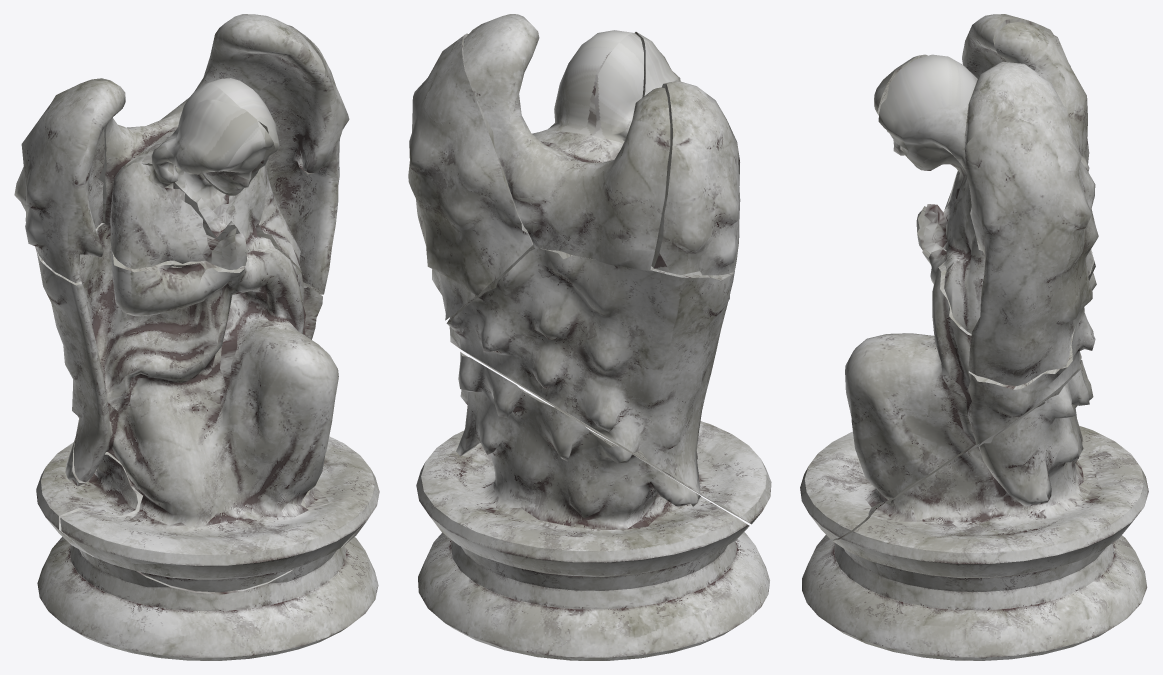
Rendered from SM_Statue2.fbx.
3 renders of one model, left to right at view 1: azimuth 30°, elevation 25°; view 2: azimuth 150°, elevation 25°; view 3: azimuth 270°, elevation 25°, orthographic. The views are drawn at different scales.
Parts seen in each view (by area): view 1: Statue_LP_cell.002, Statue_LP_cell.003, Statue_LP_cell.001, Statue_LP_cell.005, Statue_LP_cell.004, Statue_LP_cell; view 2: Statue_LP_cell.003, Statue_LP_cell.002, Statue_LP_cell.001, Statue_LP_cell.004, Statue_LP_cell, Statue_LP_cell.005; view 3: Statue_LP_cell.003, Statue_LP_cell.004, Statue_LP_cell.002, Statue_LP_cell.001, Statue_LP_cell, Statue_LP_cell.005.
Boxes of the visible parts, x1=… form: Statue_LP_cell.002: x1=35, y1=223, x2=367, y2=592; Statue_LP_cell.003: x1=36, y1=436, x2=379, y2=660; Statue_LP_cell.001: x1=72, y1=14, x2=325, y2=262; Statue_LP_cell.005: x1=110, y1=99, x2=273, y2=269; Statue_LP_cell.004: x1=255, y1=25, x2=349, y2=294; Statue_LP_cell: x1=14, y1=81, x2=124, y2=282; Statue_LP_cell.003: x1=416, y1=352, x2=769, y2=660; Statue_LP_cell.002: x1=446, y1=244, x2=771, y2=524; Statue_LP_cell.001: x1=463, y1=14, x2=670, y2=270; Statue_LP_cell.004: x1=408, y1=33, x2=532, y2=320; Statue_LP_cell: x1=651, y1=80, x2=740, y2=275; Statue_LP_cell.005: x1=635, y1=32, x2=680, y2=97; Statue_LP_cell.003: x1=802, y1=360, x2=1148, y2=660; Statue_LP_cell.004: x1=944, y1=105, x2=1098, y2=385; Statue_LP_cell.002: x1=800, y1=248, x2=1096, y2=539; Statue_LP_cell.001: x1=878, y1=22, x2=1089, y2=270; Statue_LP_cell: x1=962, y1=14, x2=1070, y2=78; Statue_LP_cell.005: x1=874, y1=54, x2=957, y2=249.
Bounding box in the file's own units: 27.04 × 45.97 × 26.
